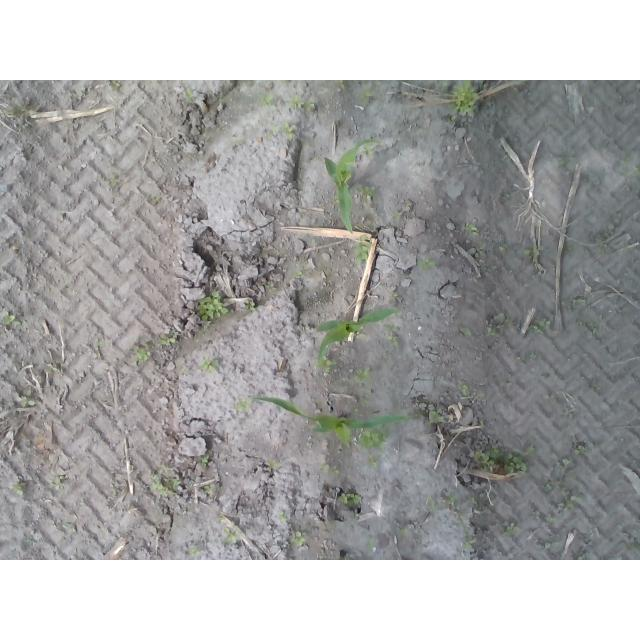Maize: (249, 395, 413, 449), (313, 303, 400, 366), (322, 136, 378, 233)
Weeds: (472, 446, 535, 475), (194, 290, 229, 323), (453, 80, 480, 116), (152, 465, 180, 495), (359, 429, 390, 451), (576, 319, 600, 338), (384, 322, 400, 346), (290, 95, 315, 110), (337, 492, 359, 508), (356, 184, 377, 200), (564, 495, 585, 509), (222, 528, 239, 545), (532, 320, 551, 335), (418, 258, 439, 271), (282, 120, 295, 140), (199, 357, 217, 371), (430, 409, 447, 423), (464, 224, 481, 237), (464, 530, 475, 550), (356, 369, 371, 383), (353, 245, 367, 260), (20, 396, 37, 408), (158, 335, 176, 346), (1, 311, 15, 325), (292, 531, 305, 545), (503, 526, 518, 538), (573, 445, 587, 457), (521, 248, 539, 257), (135, 350, 151, 360), (259, 95, 273, 106), (317, 463, 331, 474), (13, 484, 24, 498), (366, 536, 376, 551), (319, 359, 334, 369), (456, 384, 469, 395), (278, 512, 289, 525), (367, 454, 377, 466), (487, 327, 497, 338), (183, 87, 194, 97), (245, 300, 256, 310), (386, 290, 396, 300), (238, 401, 247, 412), (448, 495, 457, 506), (190, 548, 200, 557), (335, 80, 346, 88), (392, 211, 400, 221), (200, 456, 208, 465), (205, 485, 216, 491)
